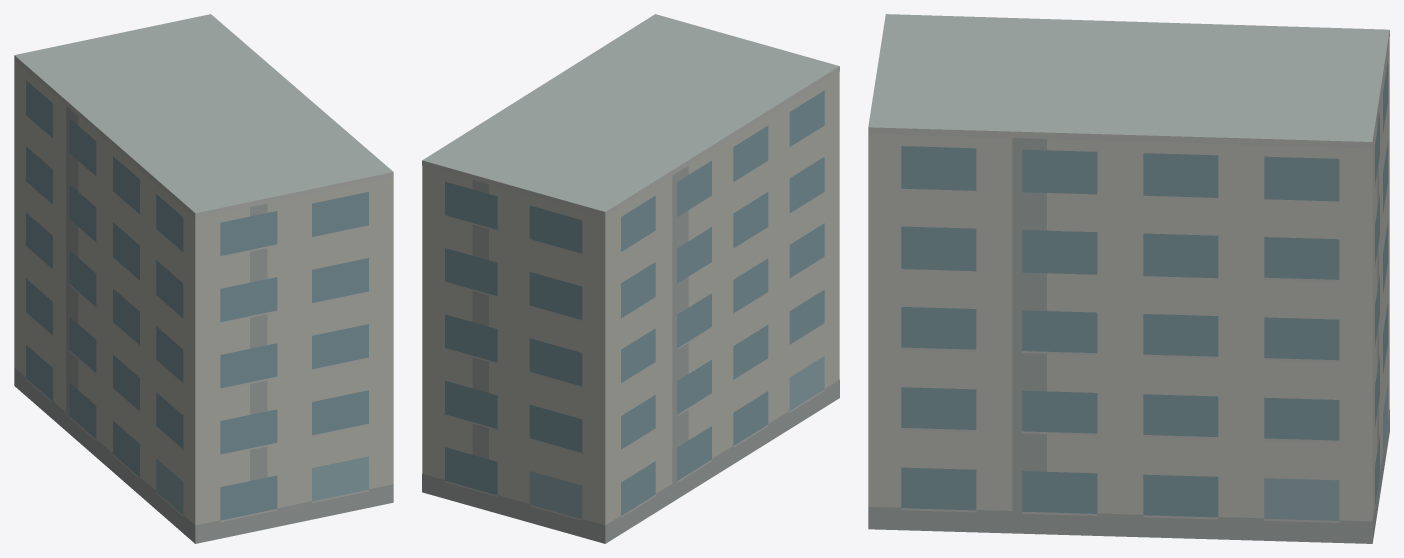
Rendered from survey-upis-32542074.glb.
3 renders of one model, left to right at view 1: azimuth 30°, elevation 25°; view 2: azimuth 150°, elevation 25°; view 3: azimuth 270°, elevation 25°, orthographic. The views are drawn at different scales.
Visible parts, largest first — view 1: survey-upis-32542074.tmp; view 2: survey-upis-32542074.tmp; view 3: survey-upis-32542074.tmp.
Boxes of the visible parts, x1,y1,x2,y2 form: survey-upis-32542074.tmp: (14, 14, 393, 543); survey-upis-32542074.tmp: (422, 14, 839, 543); survey-upis-32542074.tmp: (868, 14, 1389, 543).
Bounding box in the file's own units: 10.43 × 15.25 × 17.95.
